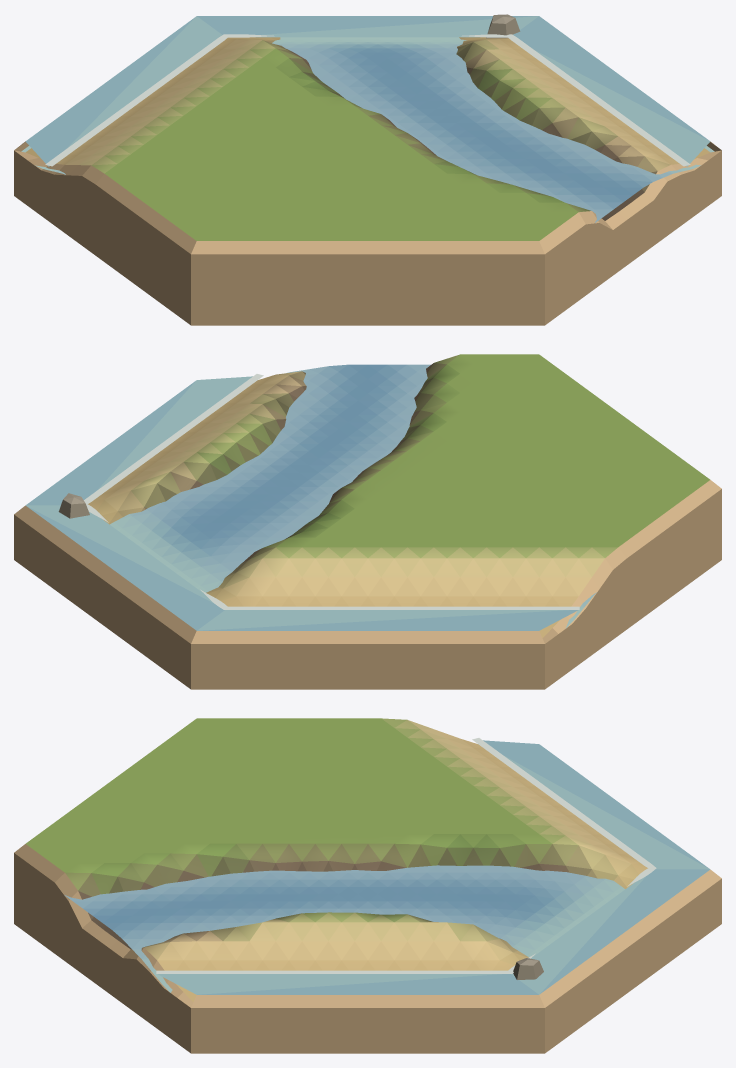
File: estuary_sea3_edge5.fbx
3 renders of one model, top to bottom at view 1: azimuth 30°, elevation 25°; view 2: azimuth 150°, elevation 25°; view 3: azimuth 270°, elevation 25°, orthographic.
Visible parts, largest first — view 1: estuary_sea3_edge5; view 2: estuary_sea3_edge5; view 3: estuary_sea3_edge5.
Part boxes in pixels (x1,y1,x2,y2): estuary_sea3_edge5: (14,14,721,325); estuary_sea3_edge5: (14,354,721,689); estuary_sea3_edge5: (14,718,721,1053).
Size of the model in its own units: 1.74 by 0.25 by 2.
